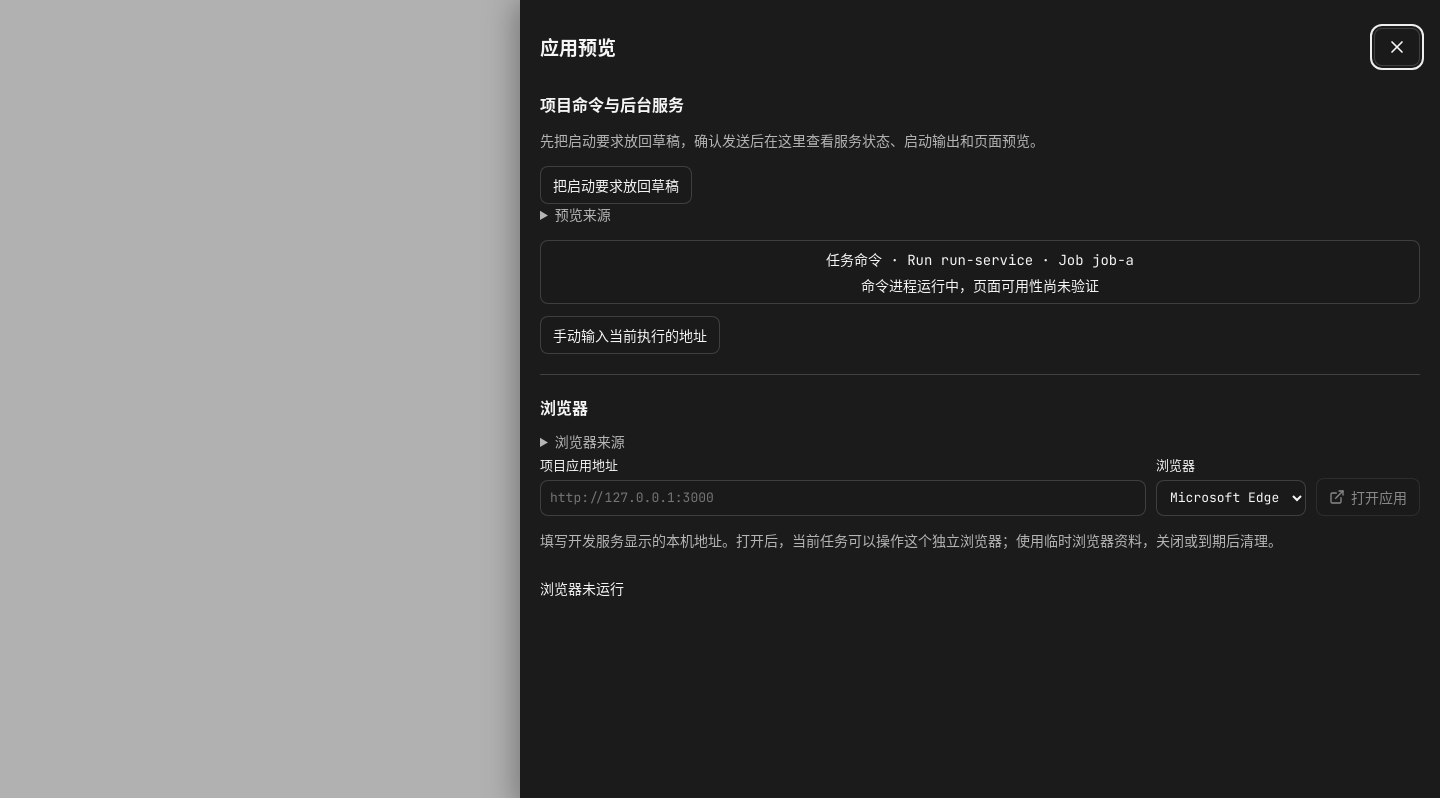
Test case: loads original tool evidence only on demand and rejects another Run's record
Click the button "任务命令 · Run run-service · Job job-a 命令进程运行中，页面可用性尚未验证": (854, 260) x1=540 y1=240 x2=1420 y2=304
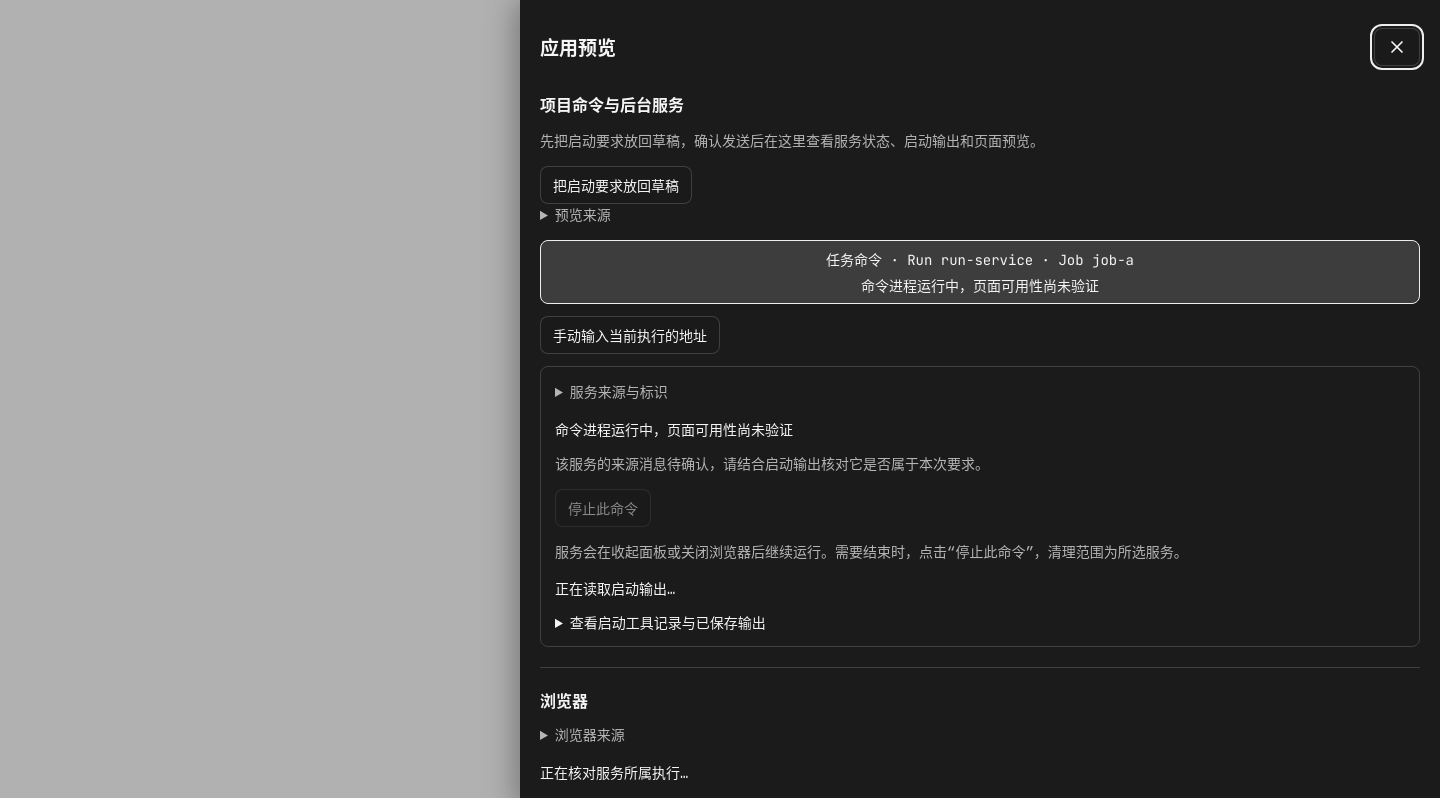
Click the heading "查看启动工具记录与已保存输出": (668, 623) x1=570 y1=614 x2=766 y2=632
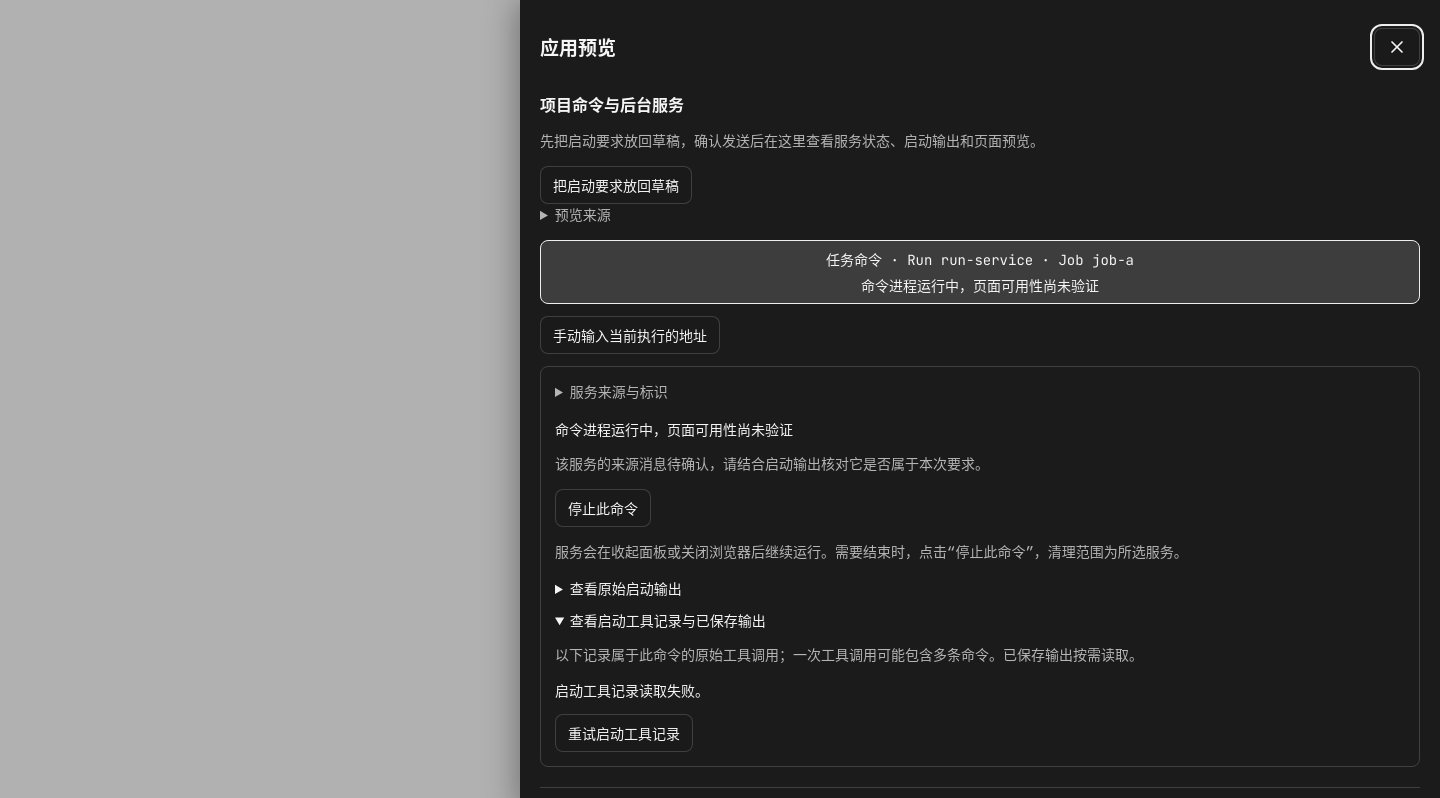
Expected: the text "启动工具记录读取失败。" is shown, x1=555 y1=682 x2=709 y2=700
